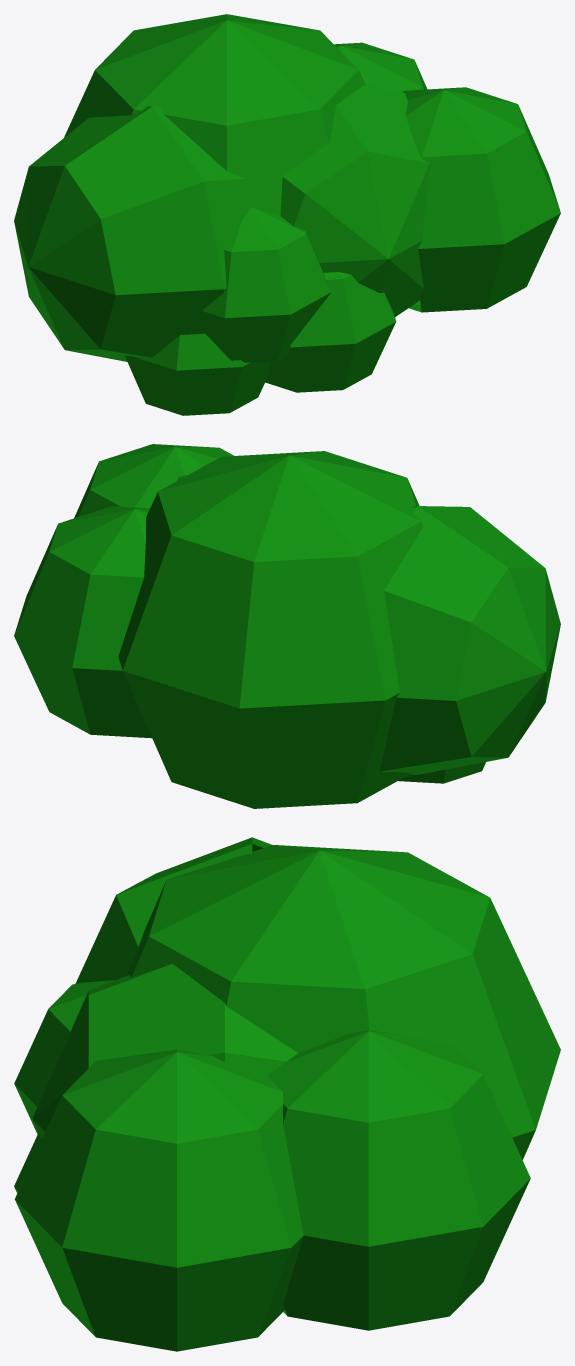
The model's file is toxicCloud.fbx.
3 renders of one model, top to bottom at view 1: azimuth 30°, elevation 25°; view 2: azimuth 150°, elevation 25°; view 3: azimuth 270°, elevation 25°, orthographic. The views are drawn at different scales.
Visible parts, largest first — view 1: Sphere001; view 2: Sphere001; view 3: Sphere001.
Boxes of the visible parts, x1,y1,x2,y2 form: Sphere001: (14,14,560,415); Sphere001: (14,444,560,808); Sphere001: (14,837,560,1351).
Bounding box in the file's own units: 153 × 110 × 101.
